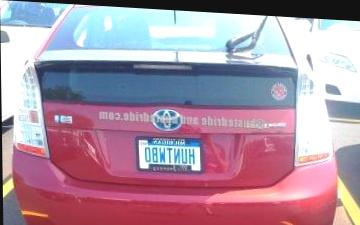License_Plate: (132, 130, 206, 179)
